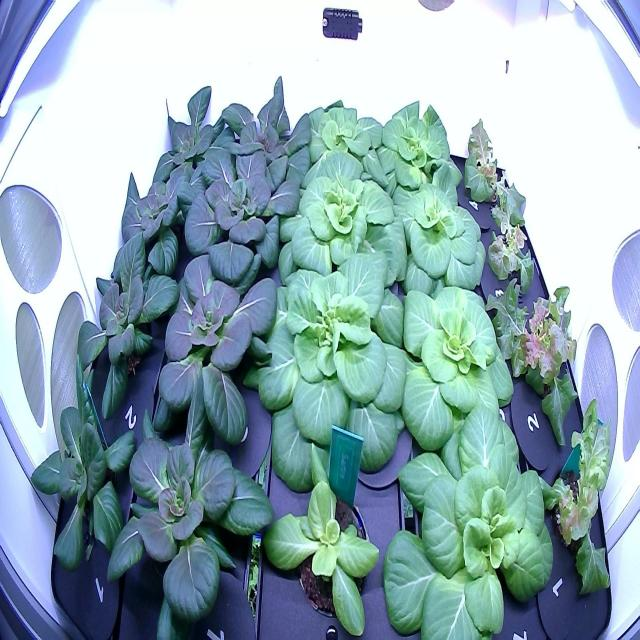young: (101, 356, 288, 632), (369, 393, 564, 639), (236, 242, 418, 502), (25, 344, 155, 597), (142, 242, 296, 455), (380, 260, 530, 470), (250, 428, 394, 639), (65, 224, 192, 428), (171, 136, 311, 294), (272, 144, 411, 299), (367, 154, 496, 308), (201, 64, 329, 197), (136, 72, 236, 219), (98, 152, 198, 289), (369, 90, 466, 209), (290, 88, 391, 200)
